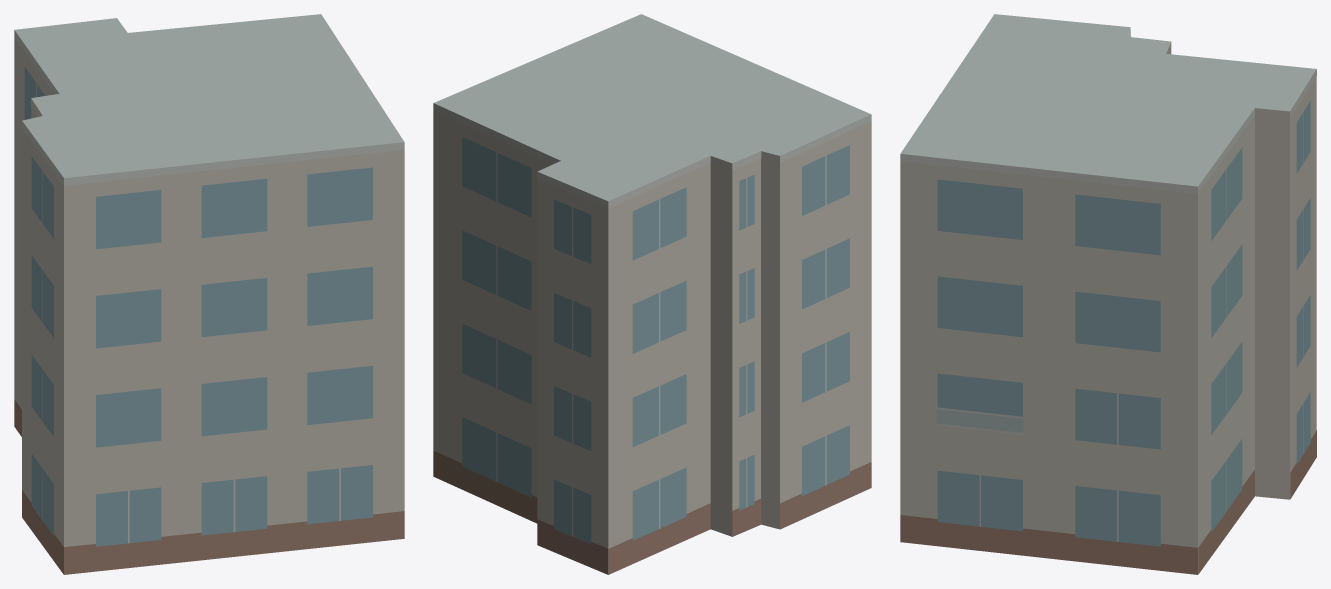
The model's file is survey-upis-32925784.glb.
The picture shows the model from 3 angles, left to right: view 1: azimuth 30°, elevation 25°; view 2: azimuth 150°, elevation 25°; view 3: azimuth 270°, elevation 25°; orthographic projection. The views are drawn at different scales.
Visible parts, largest first — view 1: survey-upis-32925784.tmp; view 2: survey-upis-32925784.tmp; view 3: survey-upis-32925784.tmp.
Part boxes in pixels (<box>): survey-upis-32925784.tmp: <box>14,14,404,574</box>; survey-upis-32925784.tmp: <box>433,14,871,574</box>; survey-upis-32925784.tmp: <box>900,14,1316,574</box>.
Bounding box in the file's own units: 12.21 × 12.8 × 12.45.
